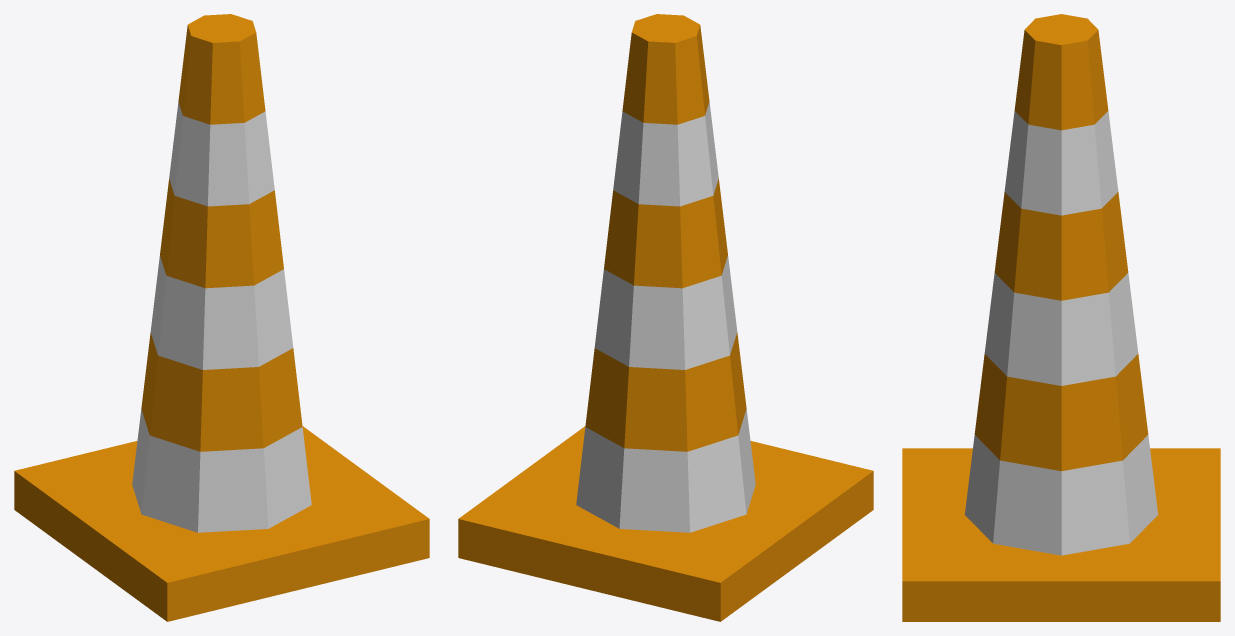
The model's file is Construction cone .fbx.
The picture shows the model from 3 angles, left to right: view 1: azimuth 30°, elevation 25°; view 2: azimuth 150°, elevation 25°; view 3: azimuth 270°, elevation 25°; orthographic projection. The views are drawn at different scales.
Parts seen in each view (by area): view 1: Cube; view 2: Cube; view 3: Cube.
Part boxes in pixels (bbox=[...]): Cube: bbox=[14, 14, 429, 621]; Cube: bbox=[458, 14, 873, 621]; Cube: bbox=[902, 14, 1220, 621].
Size of the model in its own units: 325 by 599 by 329.
